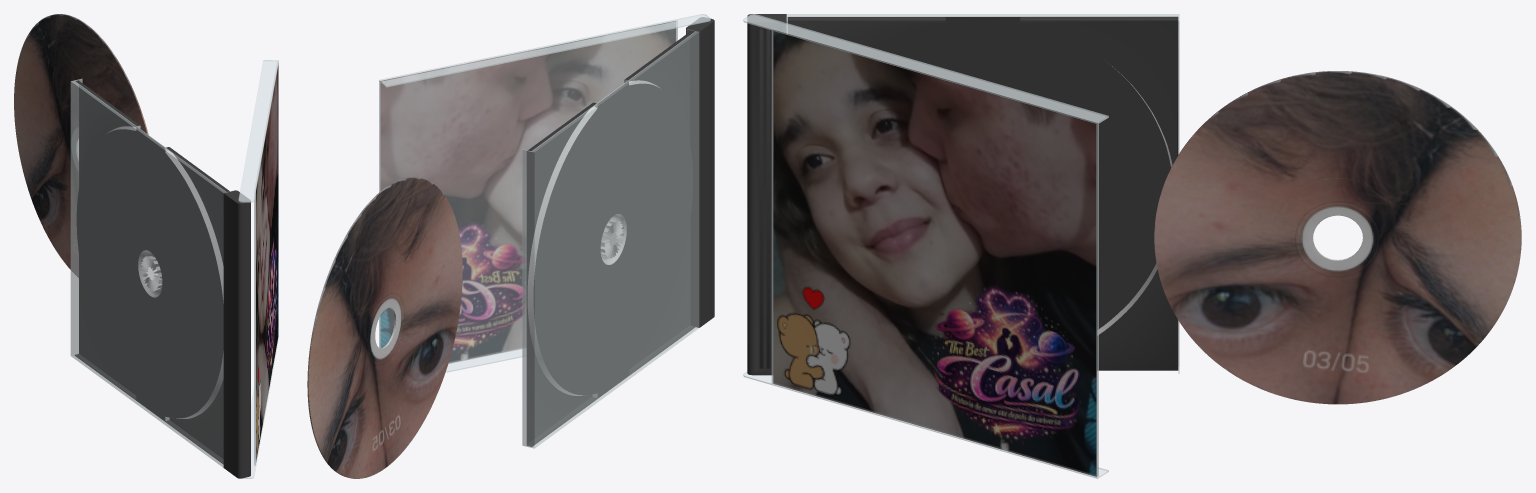
File: LOVE.glb
The picture shows the model from 3 angles, left to right: view 1: azimuth 30°, elevation 25°; view 2: azimuth 150°, elevation 25°; view 3: azimuth 270°, elevation 25°; orthographic projection. The views are drawn at different scales.
Parts seen in each view (by area): view 1: Case Back_2, CD_1, Case Front_0; view 2: Case Back_2, Case Front_0, CD_1; view 3: Case Front_0, CD_1, Case Back_2.
Part boxes in pixels (<box>): Case Back_2: <box>70,78,250,478</box>; CD_1: <box>14,14,148,277</box>; Case Front_0: <box>238,60,278,478</box>; Case Back_2: <box>522,17,714,448</box>; Case Front_0: <box>379,14,710,372</box>; CD_1: <box>307,177,462,478</box>; Case Front_0: <box>743,14,1108,478</box>; CD_1: <box>1154,71,1521,404</box>; Case Back_2: <box>747,14,1179,375</box>.
Size of what is drawn, in the model's own units: 1.33 by 2 by 3.96.
7 materials, 3 textured.
